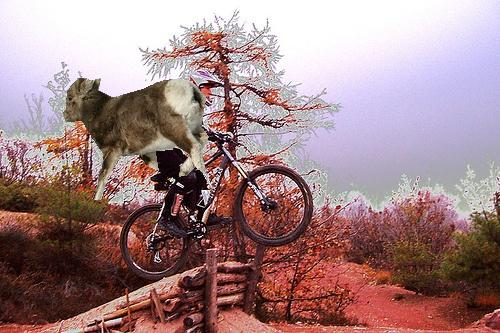tampered: (64, 79, 213, 200)
